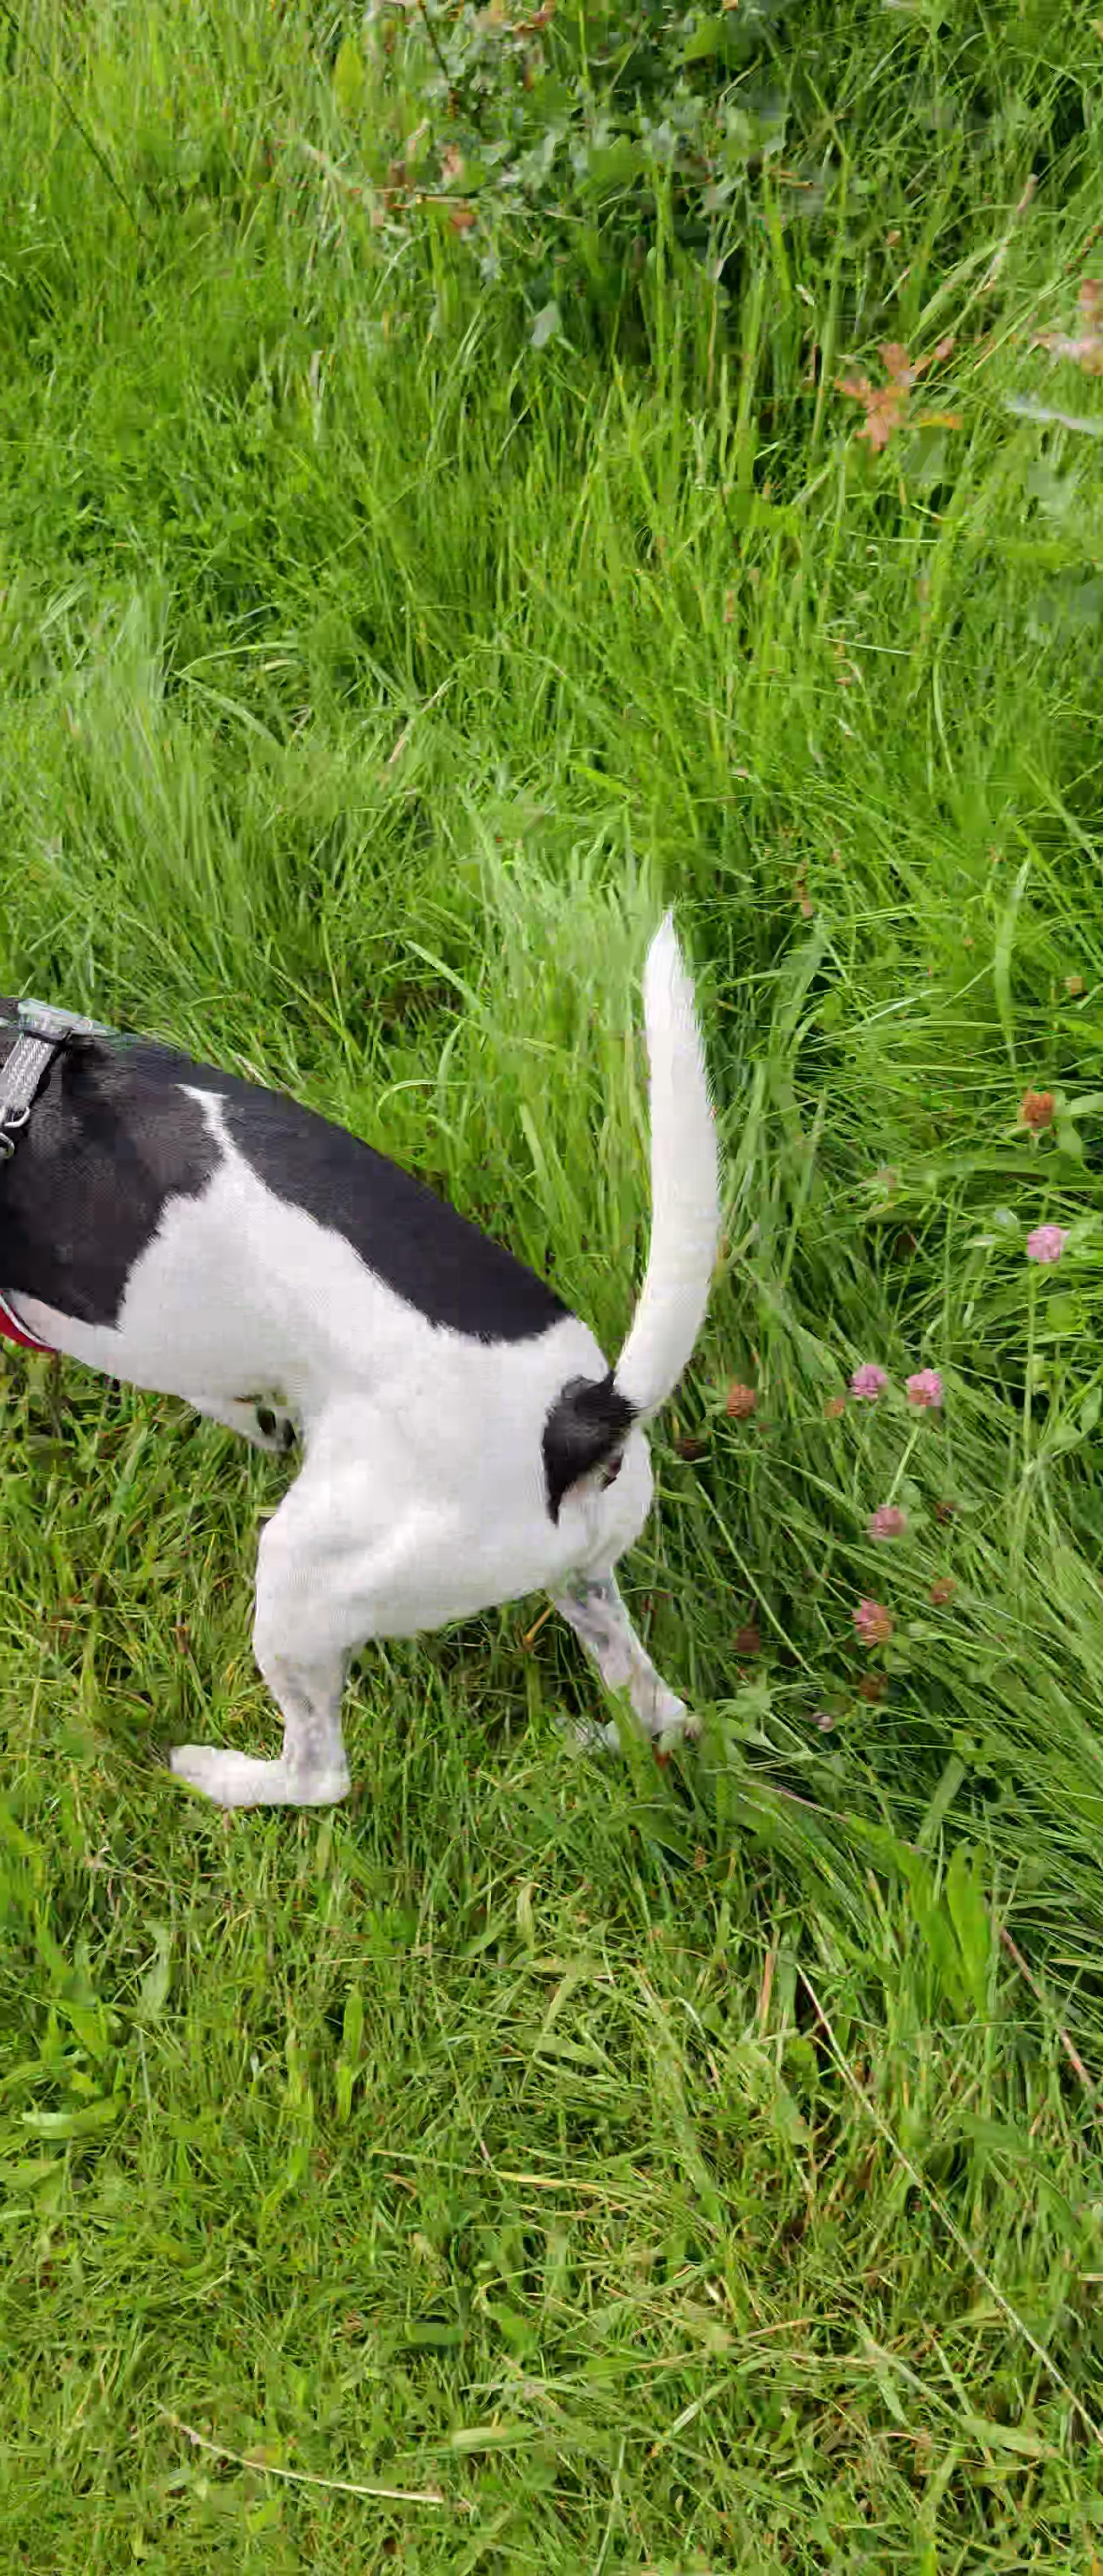Dog: (0, 892, 730, 1814)
